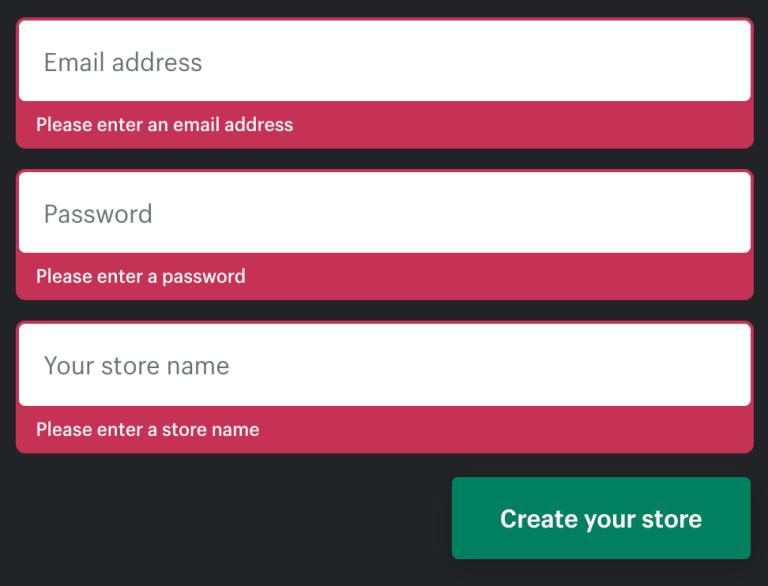error_field: (15, 320, 754, 411), (15, 168, 756, 258), (17, 16, 751, 105)
error_message: (36, 114, 295, 137), (35, 265, 250, 288), (35, 418, 261, 439)
